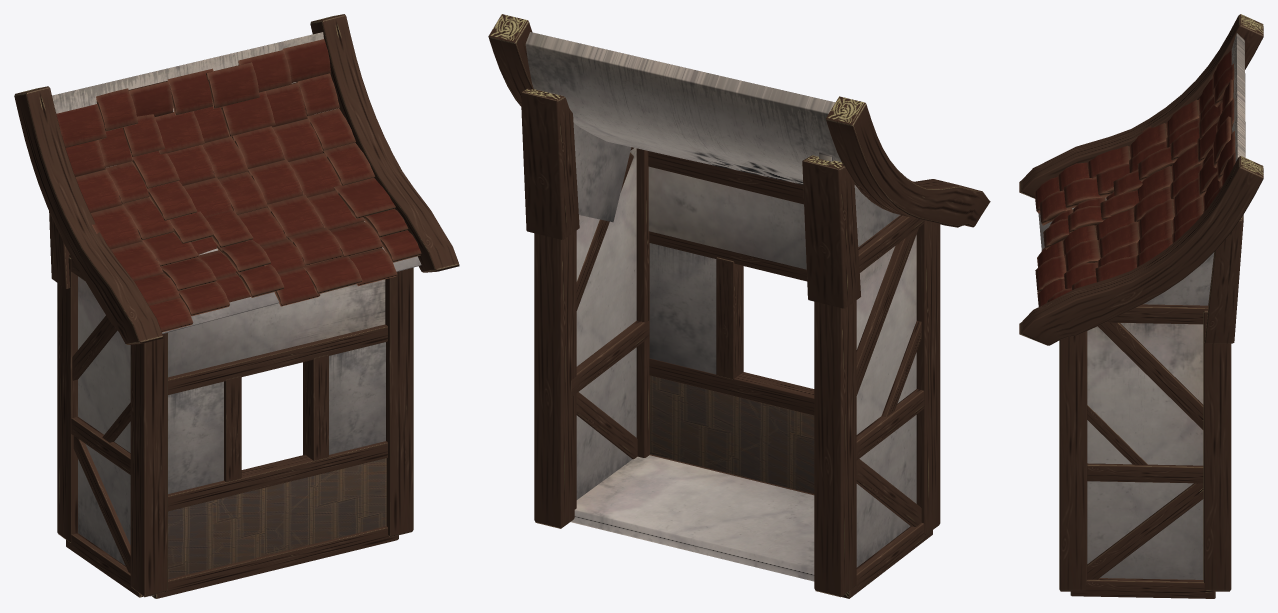
The model's file is Side_house_Piece_V1.fbx.
The picture shows the model from 3 angles, left to right: view 1: azimuth 30°, elevation 25°; view 2: azimuth 150°, elevation 25°; view 3: azimuth 270°, elevation 25°; orthographic projection. The views are drawn at different scales.
Parts seen in each view (by area): view 1: Side_house_Piece_V1; view 2: Side_house_Piece_V1; view 3: Side_house_Piece_V1.
Part boxes in pixels (left/top/right/bottom): Side_house_Piece_V1: left=14, top=14, right=459, bottom=598; Side_house_Piece_V1: left=488, top=14, right=990, bottom=598; Side_house_Piece_V1: left=1019, top=14, right=1263, bottom=598.
Bounding box in the file's own units: 333 × 446 × 223.
